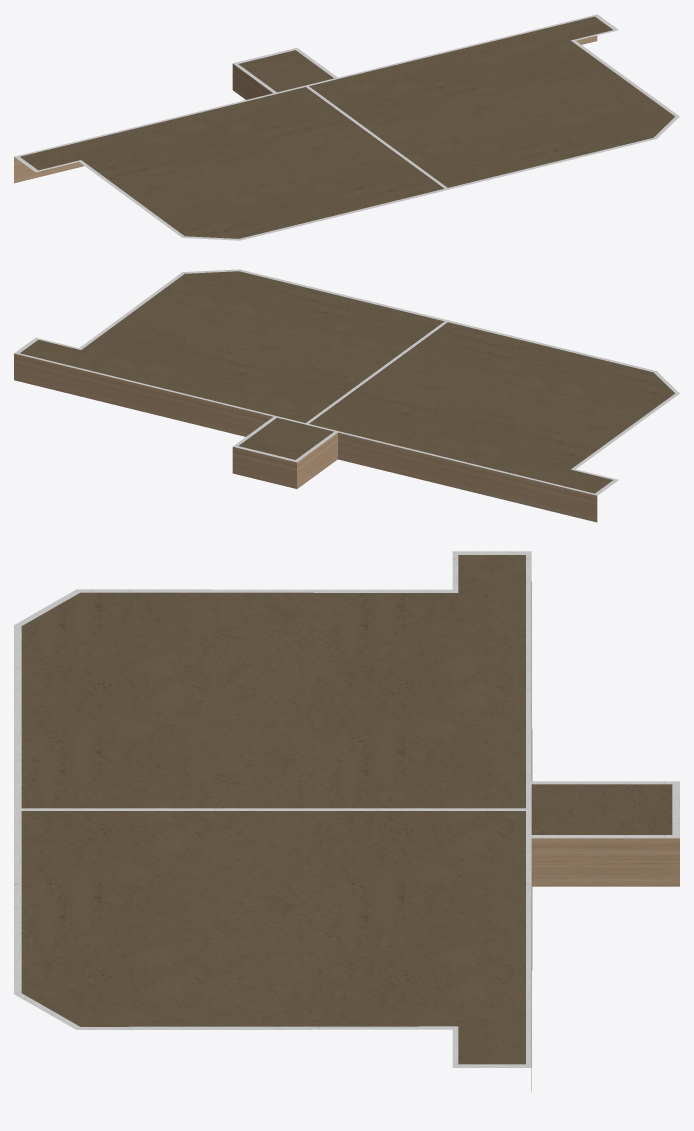
The model's file is Stage.fbx.
3 views of the same model, one above another, from view 1: azimuth 30°, elevation 25°; view 2: azimuth 150°, elevation 25°; view 3: azimuth 270°, elevation 25° (orthographic). The views are drawn at different scales.
Visible parts, largest first — view 1: Stage; view 2: Stage; view 3: Stage.
Part boxes in pixels (x1,y1,x2,y2): Stage: (14,14,679,240); Stage: (14,269,679,522); Stage: (14,551,679,1091).
Bounding box in the file's own units: 40.41 × 1.77 × 22.01.
